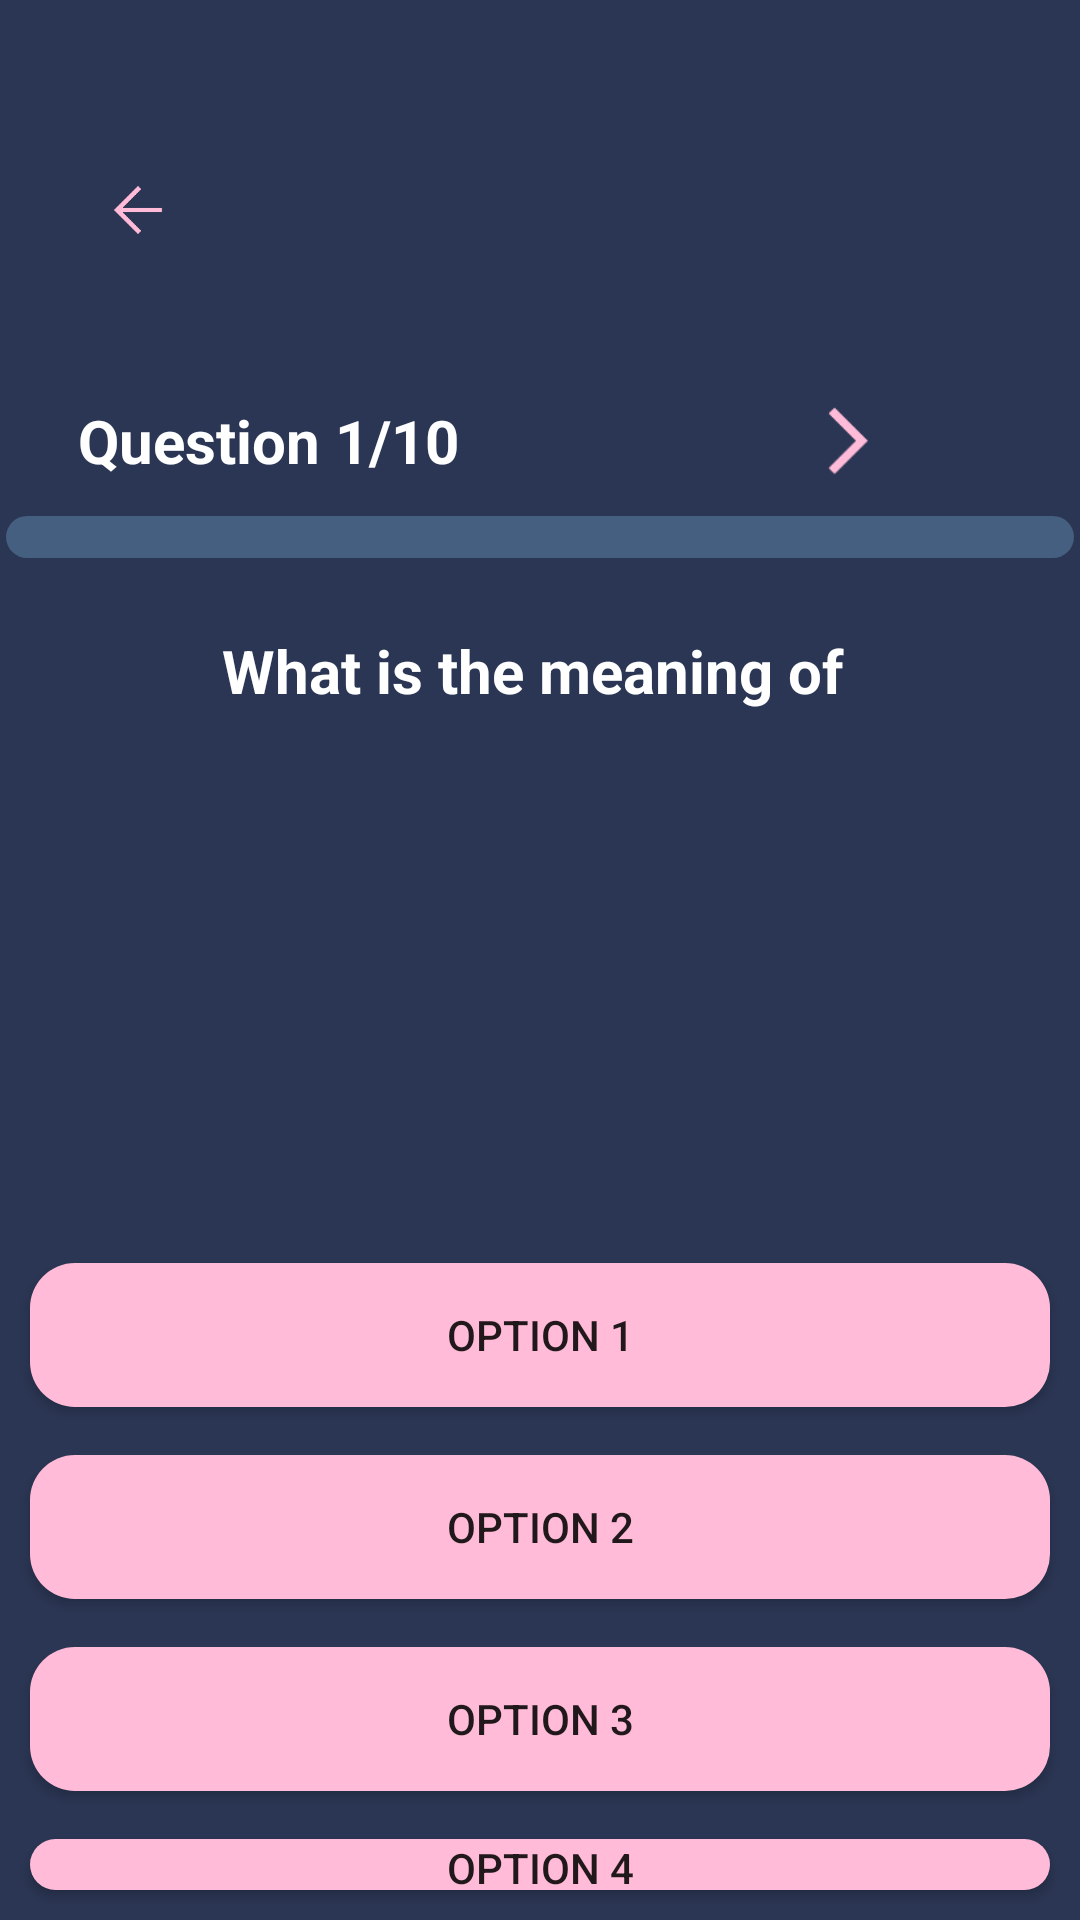

Icons on this 1080w x 1920h Android screen, each with the point to tap as (x,y):
left arrow: (138,210)
